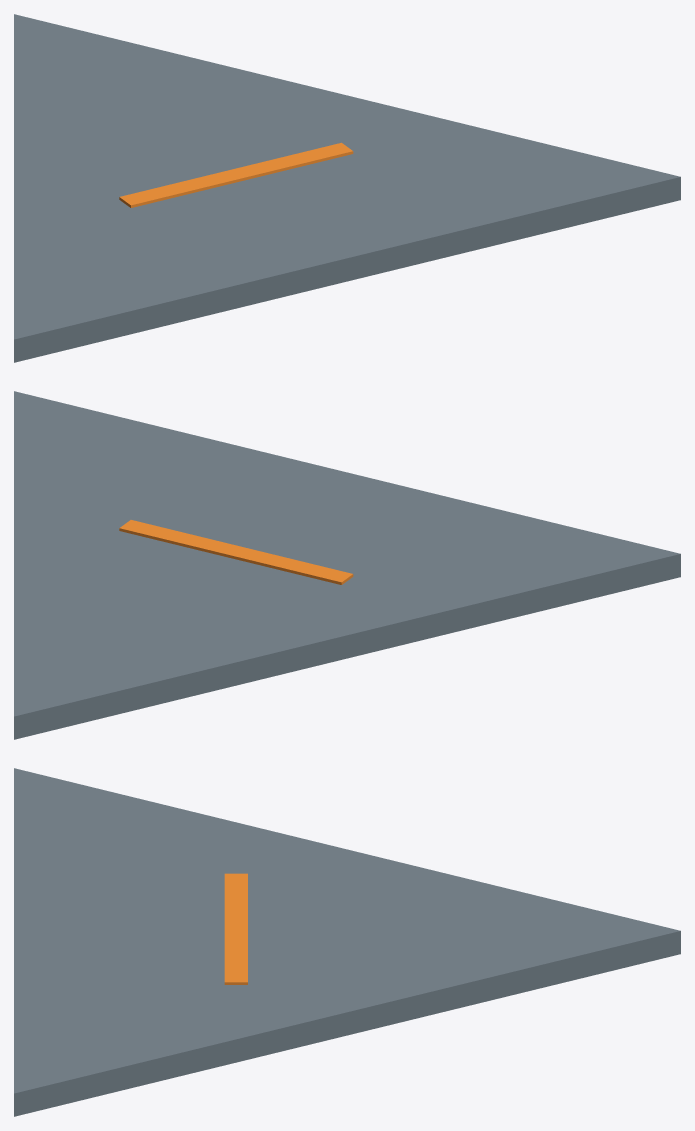
File: base-CeilingTriangle.fbx
The picture shows the model from 3 angles, top to bottom: view 1: azimuth 30°, elevation 25°; view 2: azimuth 150°, elevation 25°; view 3: azimuth 270°, elevation 25°; orthographic projection.
Visible parts, largest first — view 1: CeilingTriangle.001, base-CeilingTriangle_Deck marking.001; view 2: CeilingTriangle.001, base-CeilingTriangle_Deck marking.001; view 3: CeilingTriangle.001, base-CeilingTriangle_Deck marking.001.
Boxes of the visible parts, <box> form: CeilingTriangle.001: <box>14,14,680,362</box>; base-CeilingTriangle_Deck marking.001: <box>119,142,353,207</box>; CeilingTriangle.001: <box>14,391,680,739</box>; base-CeilingTriangle_Deck marking.001: <box>119,520,353,584</box>; CeilingTriangle.001: <box>14,768,680,1116</box>; base-CeilingTriangle_Deck marking.001: <box>224,873,247,984</box>.
Bounding box in the file's own units: 300 × 11.2 × 260.
